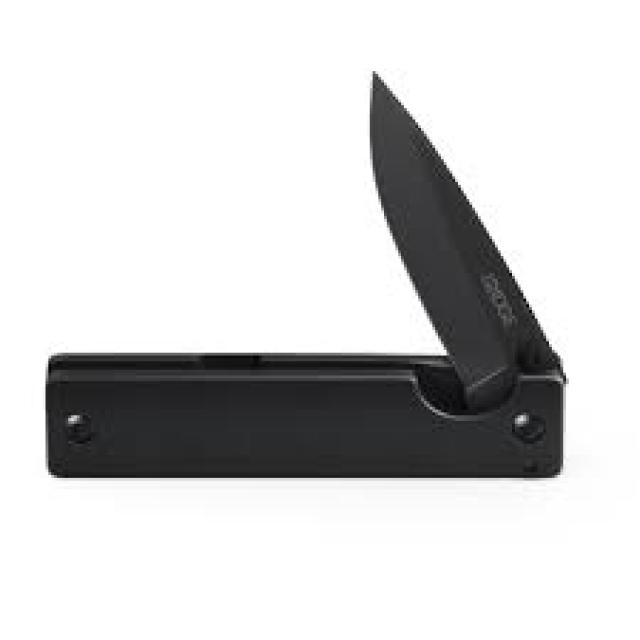knives: (40, 66, 572, 483)
